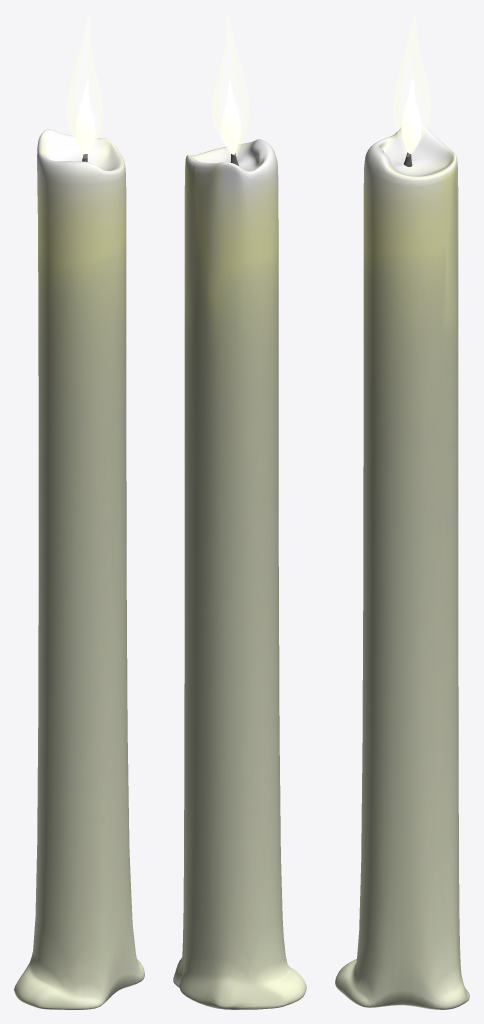
File: candle.glb
The picture shows the model from 3 angles, left to right: view 1: azimuth 30°, elevation 25°; view 2: azimuth 150°, elevation 25°; view 3: azimuth 330°, elevation 25°; orthographic projection.
Parts seen in each view (by area): view 1: Cylinder, Cylinder.002, Cylinder.003; view 2: Cylinder, Cylinder.002, Cylinder.003; view 3: Cylinder, Cylinder.002, Cylinder.003.
Part boxes in pixels (left/top/right/bottom): Cylinder: left=14, top=129, right=144, bottom=1009; Cylinder.002: left=67, top=15, right=102, bottom=158; Cylinder.003: left=75, top=78, right=95, bottom=154; Cylinder: left=173, top=139, right=306, bottom=1009; Cylinder.002: left=212, top=14, right=248, bottom=156; Cylinder.003: left=220, top=78, right=240, bottom=154; Cylinder: left=335, top=123, right=469, bottom=1009; Cylinder.002: left=393, top=14, right=430, bottom=156; Cylinder.003: left=401, top=78, right=421, bottom=153.
Bounding box in the file's own units: 0.0291 × 0.2208 × 0.0242.
Materials: 4 (1 with a texture image).
